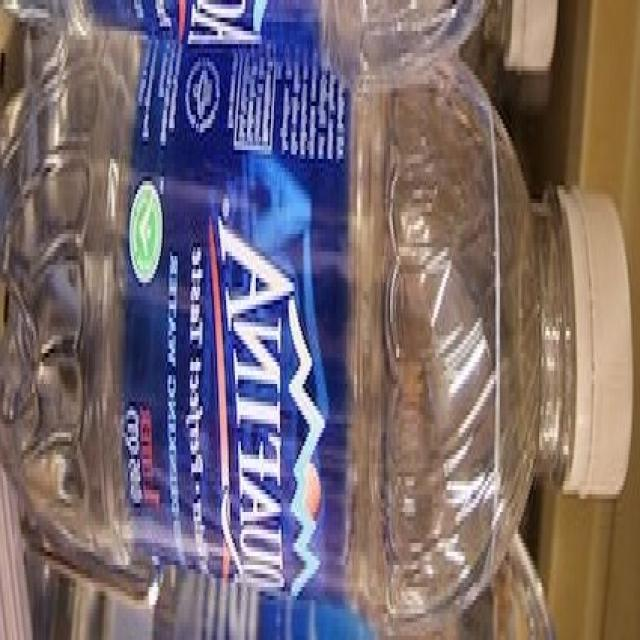plastic: (6, 31, 640, 640)
